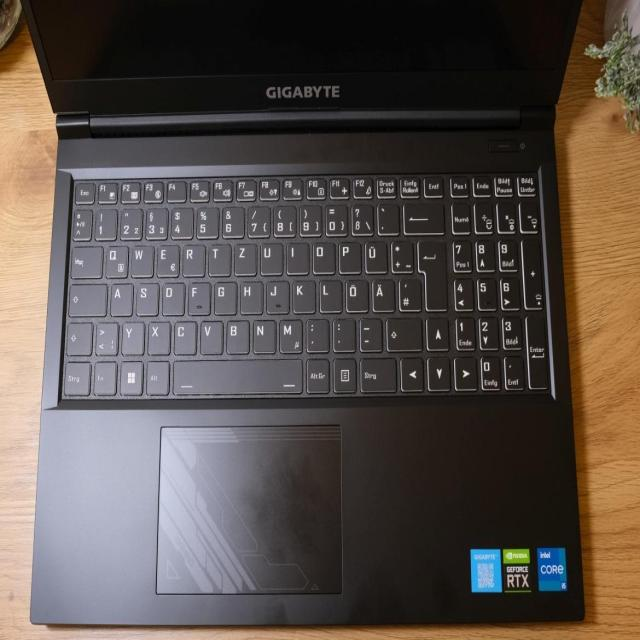0: (324, 201, 347, 235)
1: (93, 206, 115, 239)
2: (118, 205, 141, 238)
3: (144, 204, 167, 238)
4: (169, 204, 191, 237)
5: (194, 204, 217, 237)
6: (220, 203, 243, 236)
7: (246, 202, 269, 235)
8: (271, 202, 295, 235)
9: (298, 201, 321, 235)
a: (108, 280, 131, 314)
accent: (375, 200, 398, 233)
ae: (369, 276, 394, 311)
alt-left: (144, 358, 168, 394)
altgr-right: (304, 356, 329, 392)
b: (224, 317, 248, 352)
c: (172, 317, 195, 353)
caret: (70, 205, 90, 239)
comma: (304, 315, 328, 350)
d: (160, 279, 183, 314)
del: (401, 198, 442, 232)
e: (155, 241, 178, 276)
enter: (415, 234, 445, 309)
f: (186, 279, 209, 314)
g: (212, 278, 235, 314)
h: (238, 277, 261, 313)
hash: (396, 273, 420, 310)
i: (285, 239, 308, 272)
j: (264, 276, 287, 312)
k: (290, 276, 314, 311)
keyboard: (54, 165, 554, 405)
l: (318, 276, 341, 311)
less: (93, 318, 117, 354)
m: (277, 315, 301, 352)
minus: (357, 314, 380, 350)
n: (250, 316, 274, 351)
o: (311, 239, 334, 272)
oe: (343, 276, 367, 310)
p: (337, 239, 360, 272)
plus: (388, 236, 412, 272)
point: (330, 315, 354, 350)
q: (103, 242, 127, 277)
r: (181, 241, 204, 276)
s: (133, 279, 157, 313)
shift-left: (64, 318, 90, 354)
shift-lock: (67, 280, 106, 314)
shift-right: (384, 314, 421, 350)
space: (172, 355, 302, 393)
ss: (349, 200, 372, 234)
strg-left: (61, 358, 90, 395)
strg-right: (358, 354, 395, 391)
t: (206, 240, 229, 274)
tab: (69, 242, 101, 277)
u: (258, 239, 281, 273)
ue: (362, 237, 386, 272)
v: (198, 318, 222, 352)
w: (129, 241, 152, 276)
x: (146, 317, 169, 353)
y: (119, 318, 143, 353)
z: (233, 240, 256, 274)
